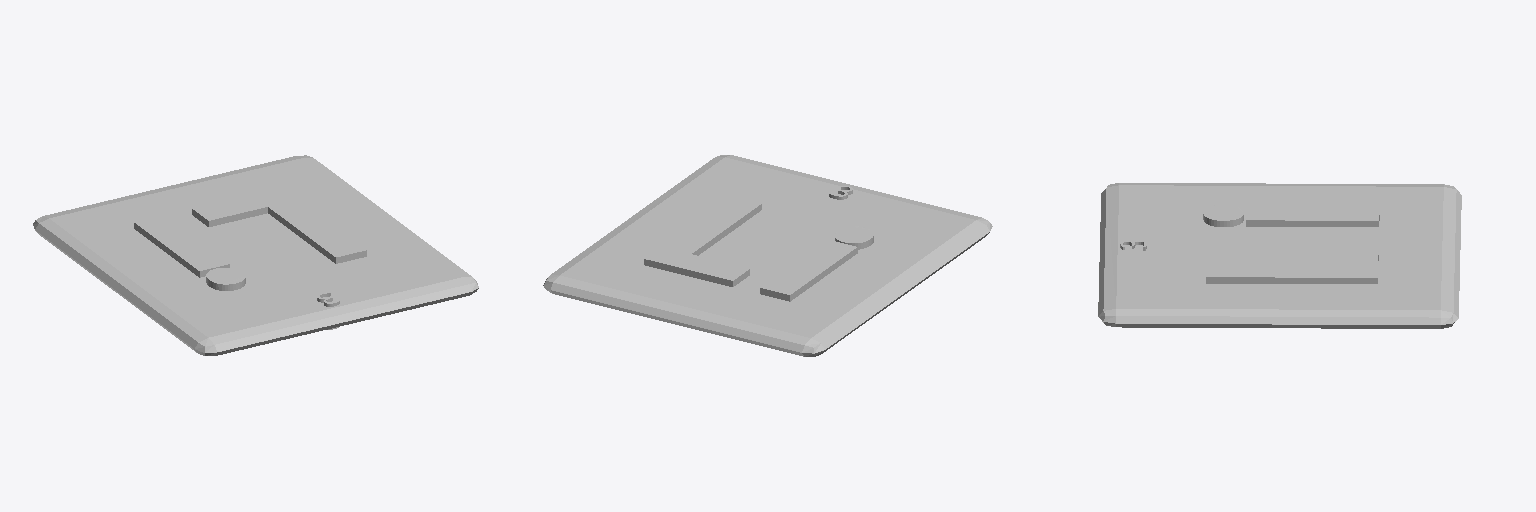
The picture shows the model from 3 angles: view 1: azimuth 30°, elevation 25°; view 2: azimuth 150°, elevation 25°; view 3: azimuth 270°, elevation 25°; orthographic projection.
Visible parts, largest first — view 1: 092_Box_3, 090_Li_-_L, 091_Li_-_i; view 2: 092_Box_3, 090_Li_-_L, 091_Li_-_i; view 3: 092_Box_3, 090_Li_-_L, 091_Li_-_i.
Boxes of the visible parts, x1=… form: 092_Box_3: x1=33, y1=155, x2=478, y2=355; 090_Li_-_L: x1=192, y1=187, x2=366, y2=263; 091_Li_-_i: x1=134, y1=215, x2=245, y2=290; 092_Box_3: x1=543, y1=155, x2=992, y2=356; 090_Li_-_L: x1=644, y1=196, x2=761, y2=286; 091_Li_-_i: x1=760, y1=226, x2=873, y2=301; 092_Box_3: x1=1098, y1=183, x2=1461, y2=328; 090_Li_-_L: x1=1206, y1=234, x2=1378, y2=283; 091_Li_-_i: x1=1203, y1=205, x2=1379, y2=226.
Size of the model in its own units: 9.09 by 0.9035 by 10.08.